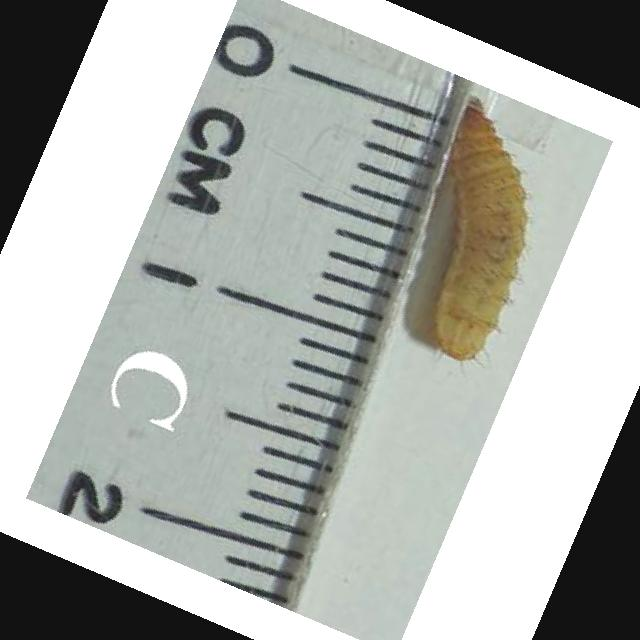Maggot: (432, 95, 534, 368)
